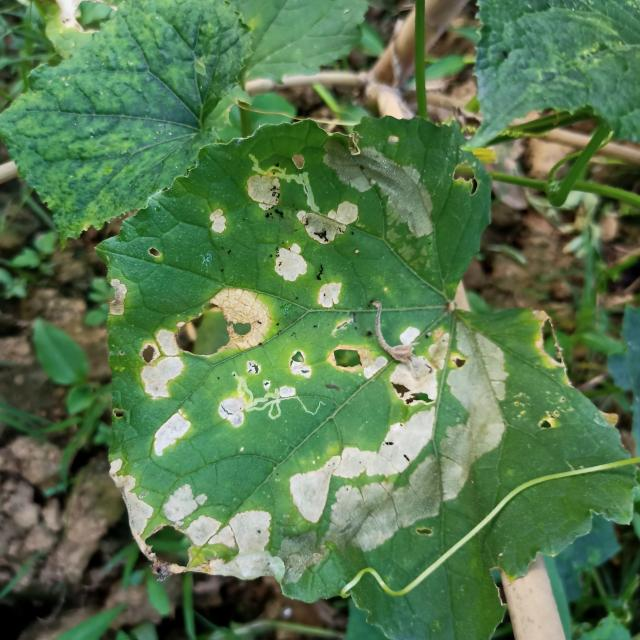disease_cucumber: (226, 316, 517, 592), (100, 135, 382, 369), (105, 291, 269, 583)
